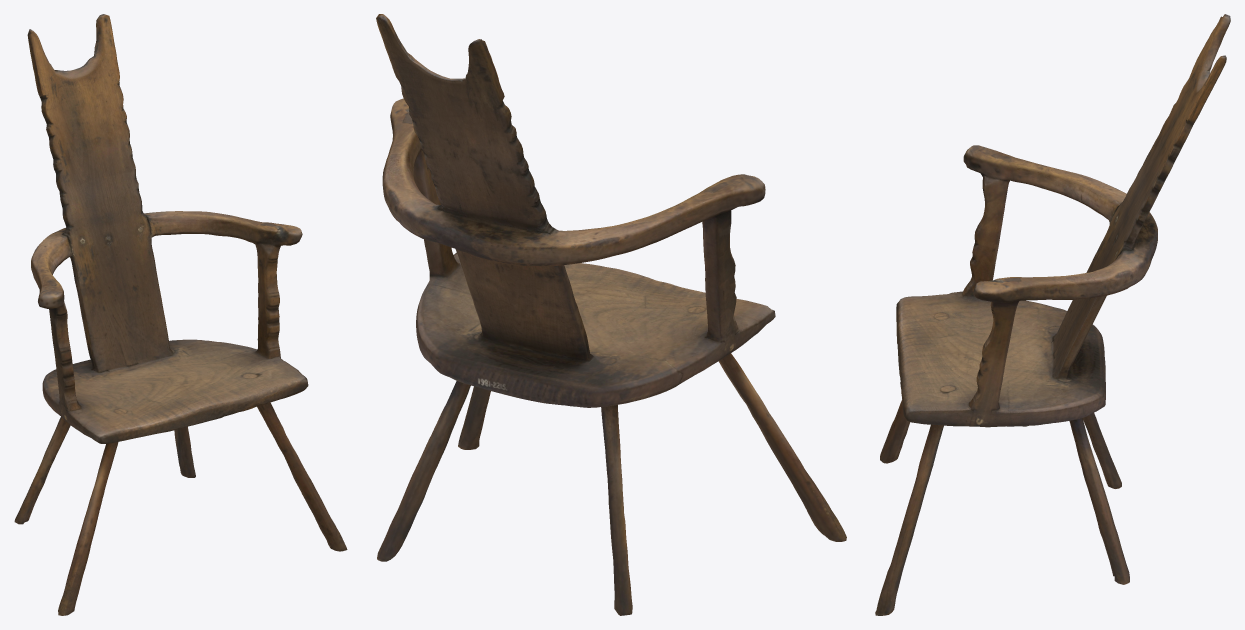
The model's file is Barber-surgeon's chair.glb.
3 views of the same model, side by side, from view 1: azimuth 30°, elevation 25°; view 2: azimuth 150°, elevation 25°; view 3: azimuth 270°, elevation 25° (orthographic). The views are drawn at different scales.
Visible parts, largest first — view 1: Object_2; view 2: Object_2; view 3: Object_2.
Part boxes in pixels (x1,y1,x2,y2): Object_2: [14, 14, 347, 615]; Object_2: [376, 14, 846, 615]; Object_2: [875, 14, 1230, 615].
Size of the model in its own units: 0.7859 by 1.17 by 0.7419.
1 material, 1 textured.
